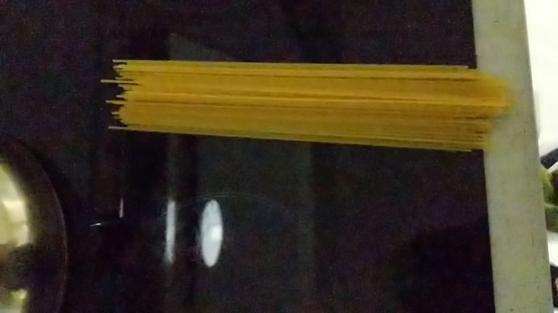spaghetti: (94, 40, 523, 166)
